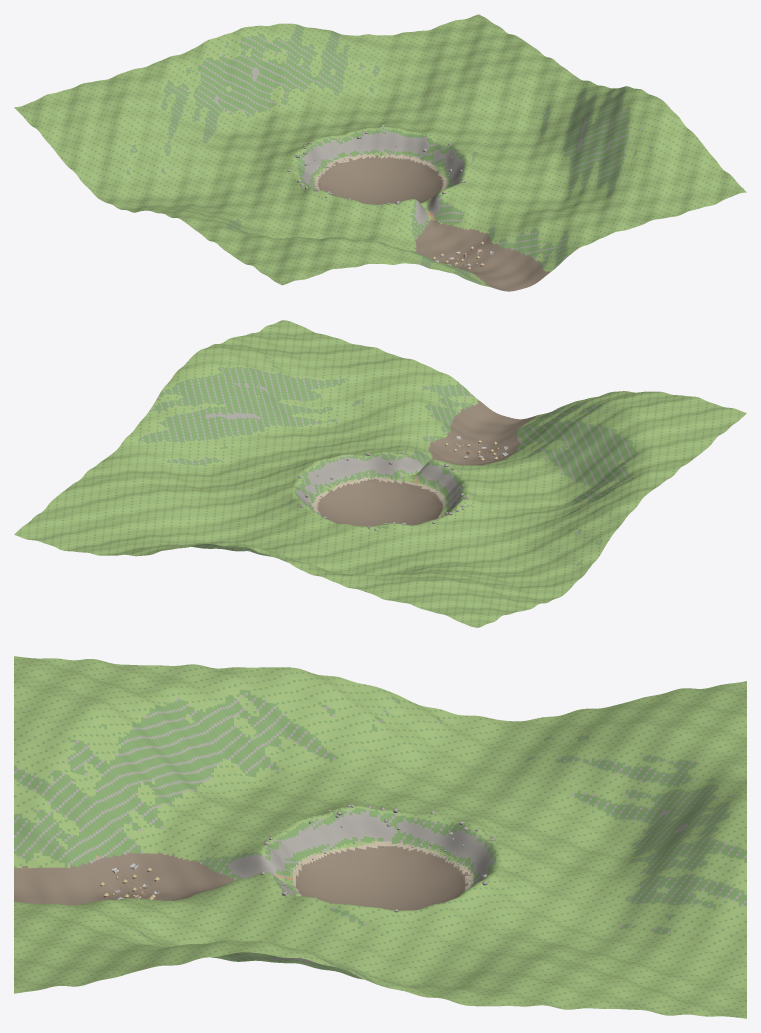
The model's file is world.glb.
3 views of the same model, one above another, from view 1: azimuth 30°, elevation 25°; view 2: azimuth 150°, elevation 25°; view 3: azimuth 270°, elevation 25° (orthographic). The views are drawn at different scales.
Visible parts, largest first — view 1: turf; view 2: turf; view 3: turf.
Part boxes in pixels (<box>): turf: <box>14,14,746,291</box>; turf: <box>14,320,746,627</box>; turf: <box>14,656,746,1018</box>.
Size of the model in its own units: 780 by 126 by 780.
